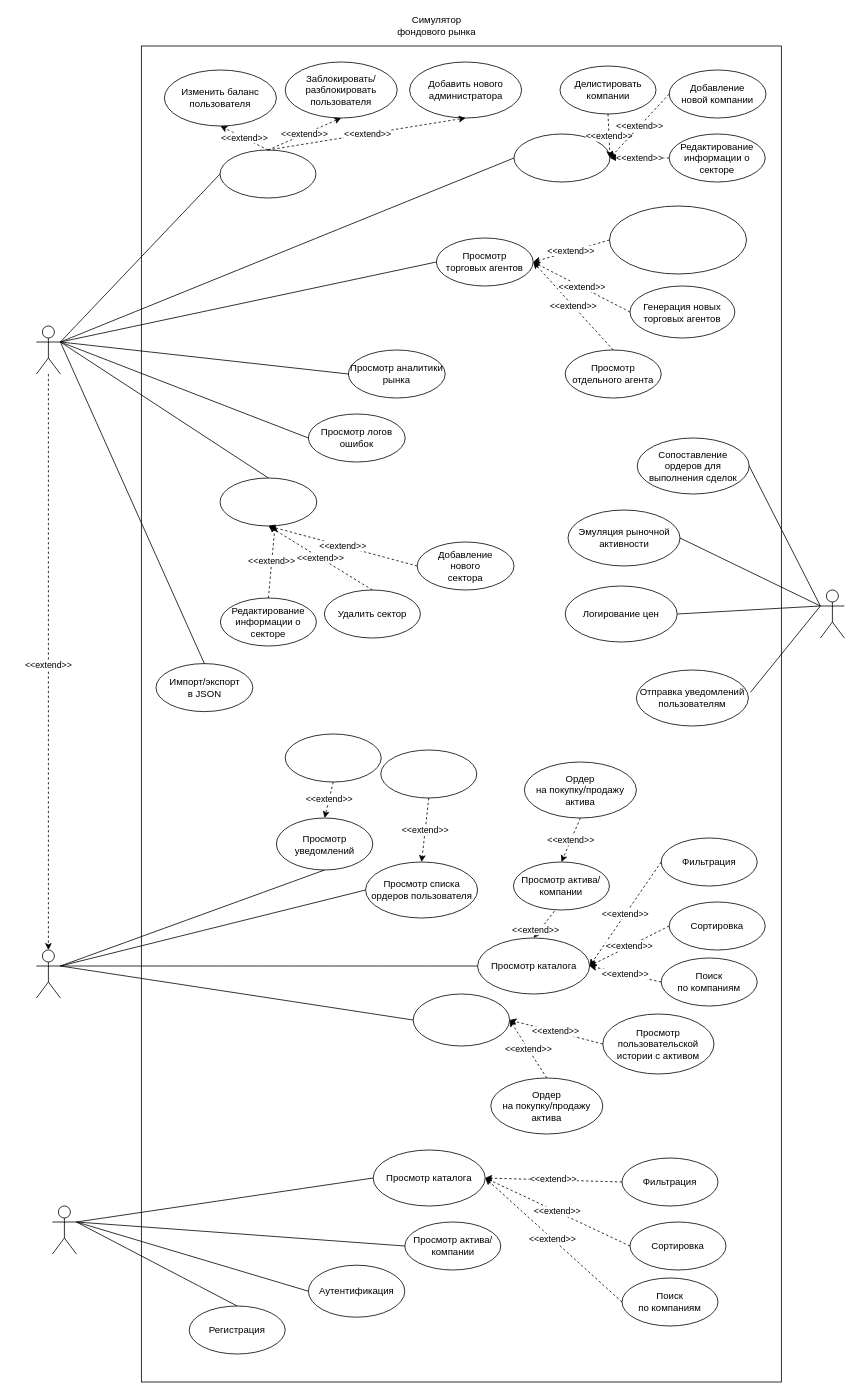
Some shapes in this 866 by 1396 pixel diagram are drawn without their labels. The shapes that lost their labels are listed below. From the top down, each one's box as (x1, y1, x2, y2) in pixels, then its label:
(219, 149, 316, 198): Просмотр пользователей
(513, 133, 610, 182): Просмотр компаний
(609, 205, 747, 274): Переключение состояния эмуляции торговых агентов
(36, 325, 60, 374): Администратор
(219, 477, 317, 526): Просмотр секторов
(820, 589, 844, 638): Система
(284, 733, 381, 782): Пометить уведомленние как прочитанное
(380, 749, 477, 798): Отменить активный ордер
(36, 949, 60, 998): Пользователь
(412, 993, 510, 1046): Просмотр личного портфеля
(52, 1205, 76, 1254): Гость
